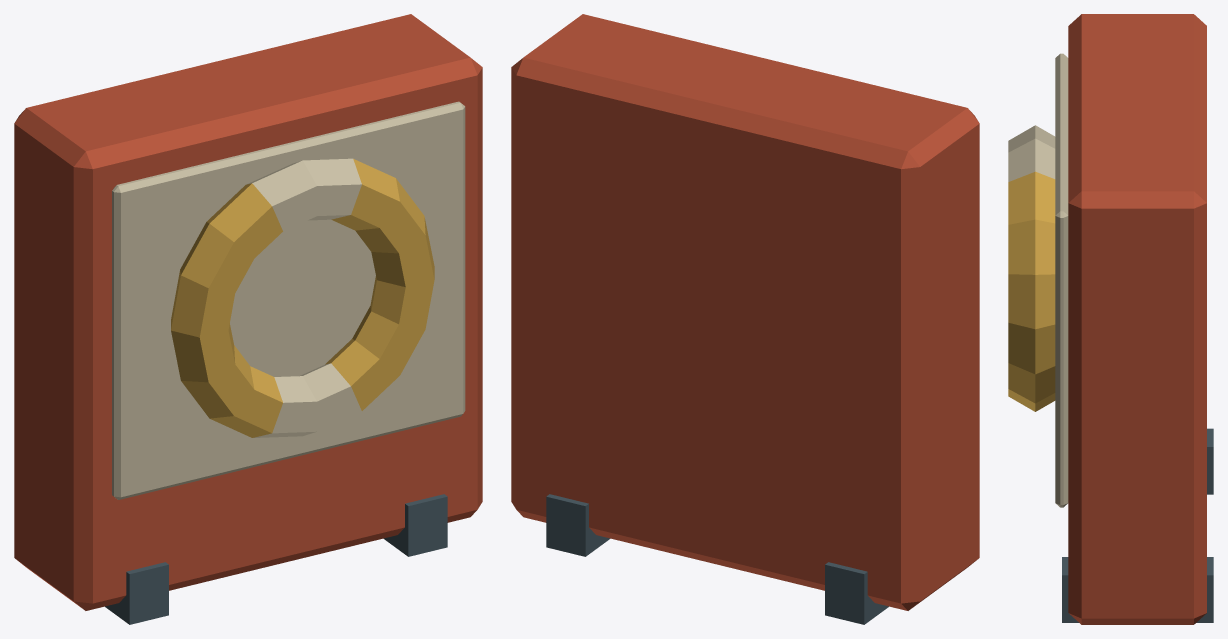
Rendered from dock_rescue.glb.
3 renders of one model, left to right at view 1: azimuth 30°, elevation 25°; view 2: azimuth 150°, elevation 25°; view 3: azimuth 270°, elevation 25°, orthographic. The views are drawn at different scales.
Parts seen in each view (by area): view 1: dock_rescue; view 2: dock_rescue; view 3: dock_rescue.
Boxes of the visible parts, x1,y1,x2,y2 form: dock_rescue: (14, 14, 482, 624); dock_rescue: (511, 14, 979, 624); dock_rescue: (1008, 14, 1213, 624).
Bounding box in the file's own units: 1.35 × 1.5 × 0.6223.
